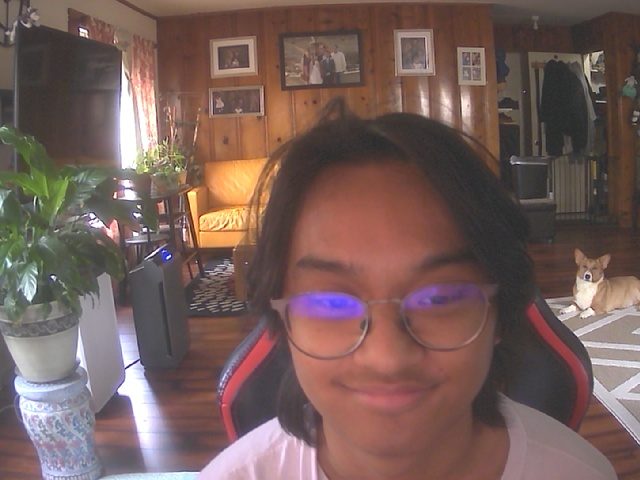happy: (268, 131, 515, 460)
